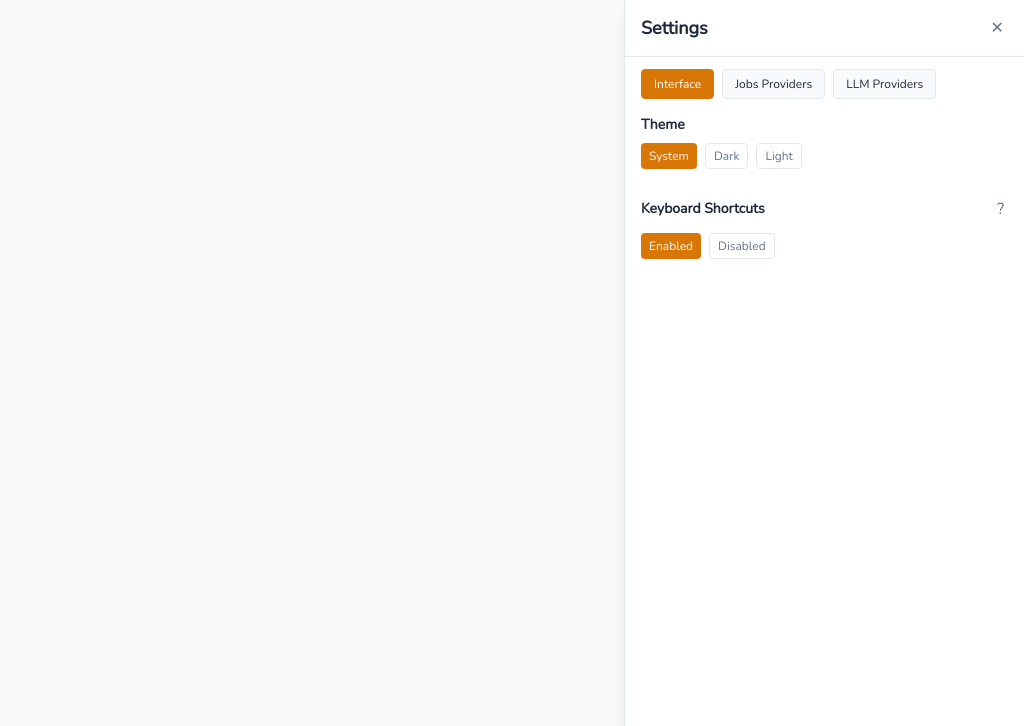
Test: SettingsPanel › switches mode sections between cloud and local
Click the tab "LLM Providers" at [885, 84], box [833,69,936,99]
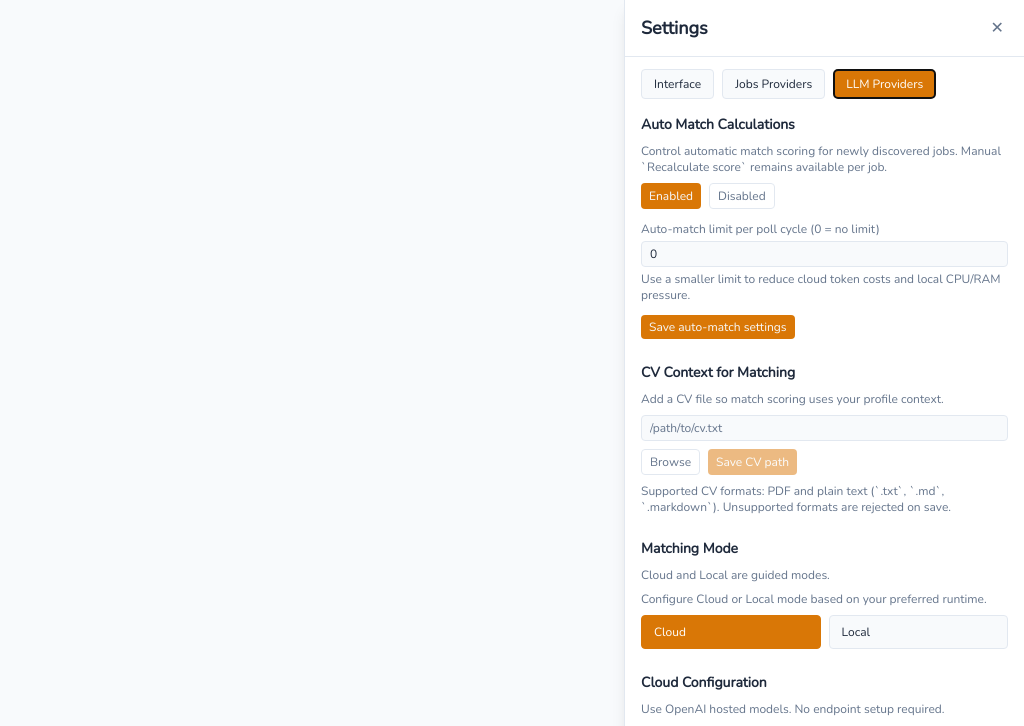
Click the radio button labelled "Local" at [918, 632], box [828,615,1008,649]
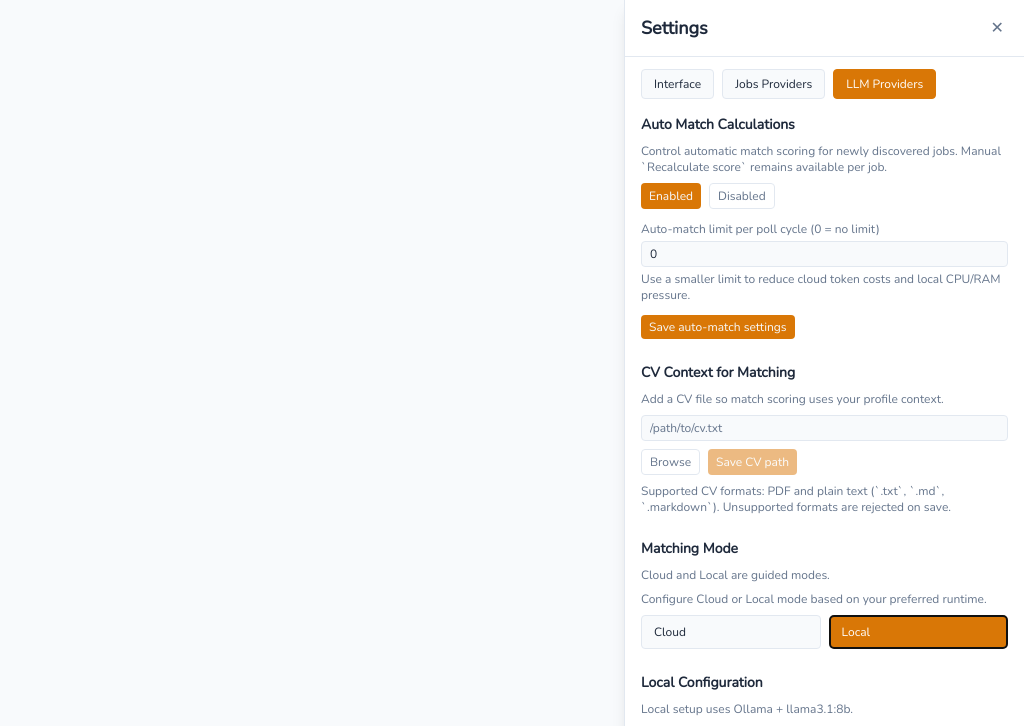
Expected: the field labelled "OpenAI API Key" is not shown
Click the radio button labelled "Cloud" at [731, 632], box [641,615,820,649]
(page scrolled)
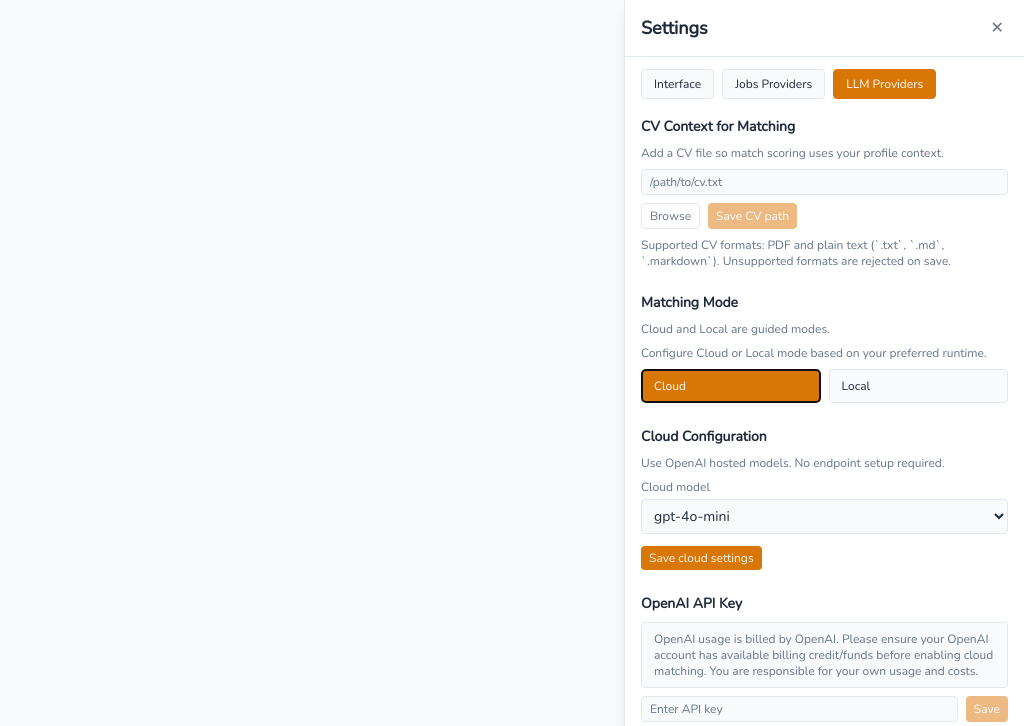
Result: the dropdown named "Cloud LLM Model" is shown at [641,499,1008,534]
Result: the password field named "OpenAI API Key" is shown at [641,696,958,722]
